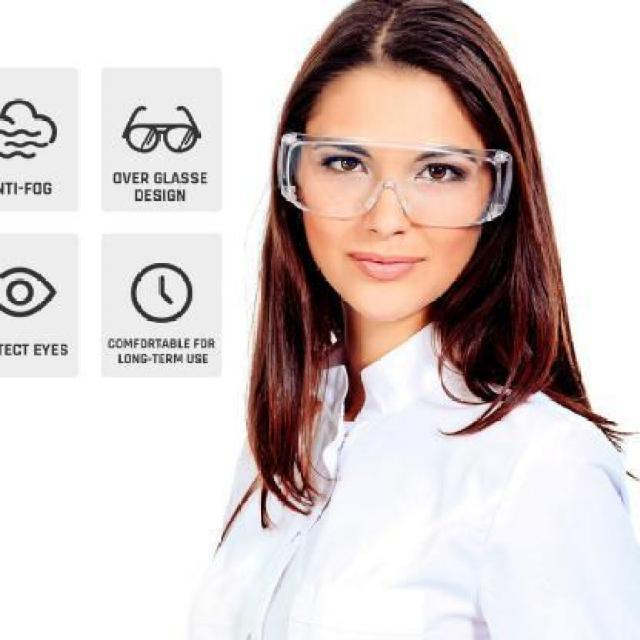Goggles: (273, 113, 530, 236)
